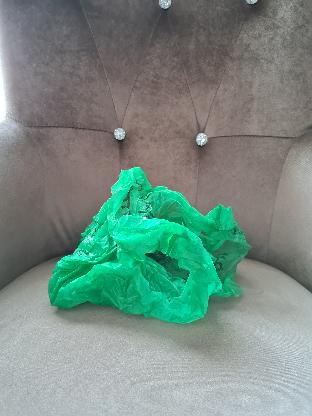Plastic Bag: (48, 166, 252, 324)
